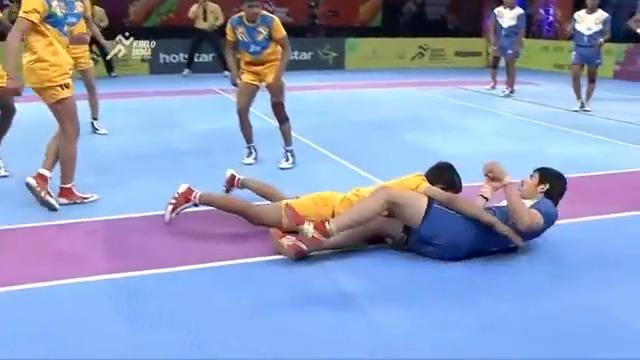Player: (1, 0, 99, 211), (223, 0, 296, 169), (565, 0, 611, 112), (484, 0, 526, 96)
Raider: (163, 160, 526, 261)
referee: (180, 0, 230, 77)
